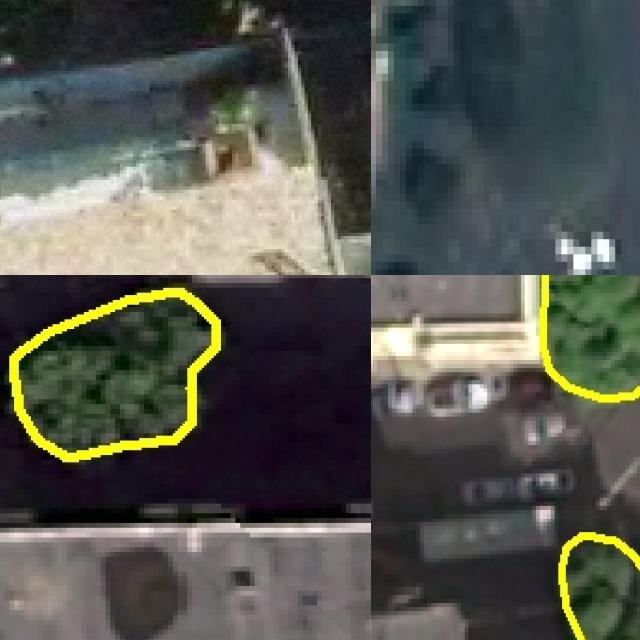trees: (13, 291, 217, 459), (541, 276, 640, 399), (561, 535, 640, 640)
